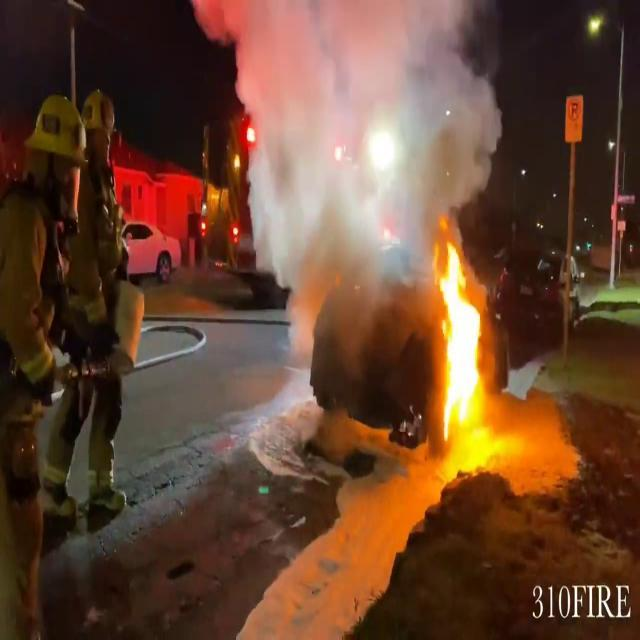Fire: (430, 232, 488, 444)
Smoke: (210, 0, 508, 260)
